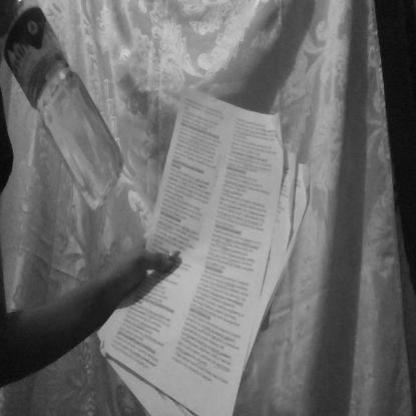Plastic Bottle: (7, 25, 127, 206)
